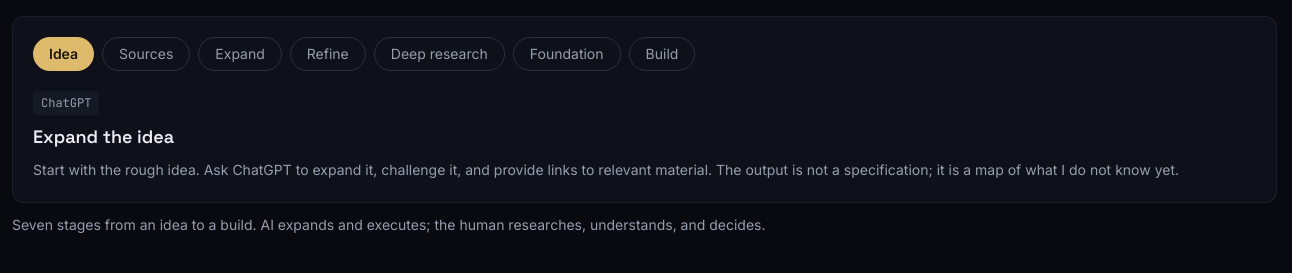
Test case: AIWorkflowTimeline › puts human source reading before deep research
Click the button with test id "stage-sources".
click(146, 54)  # box [102, 37, 190, 71]
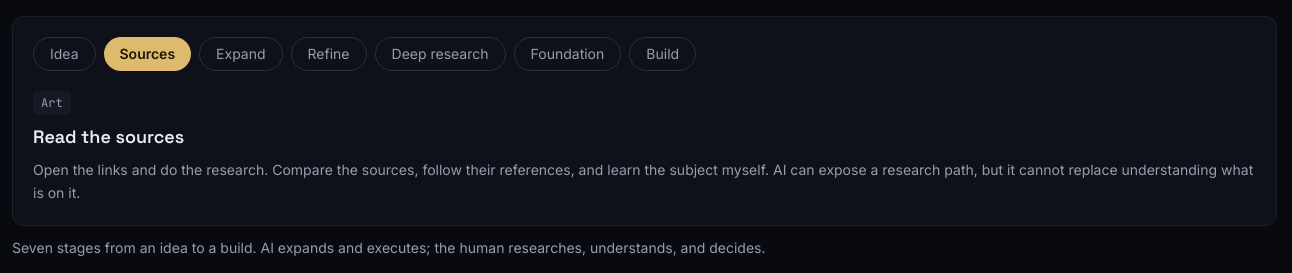
Expected: the text with test id "stage-detail" shows "do the research", [33, 161, 1253, 201]
